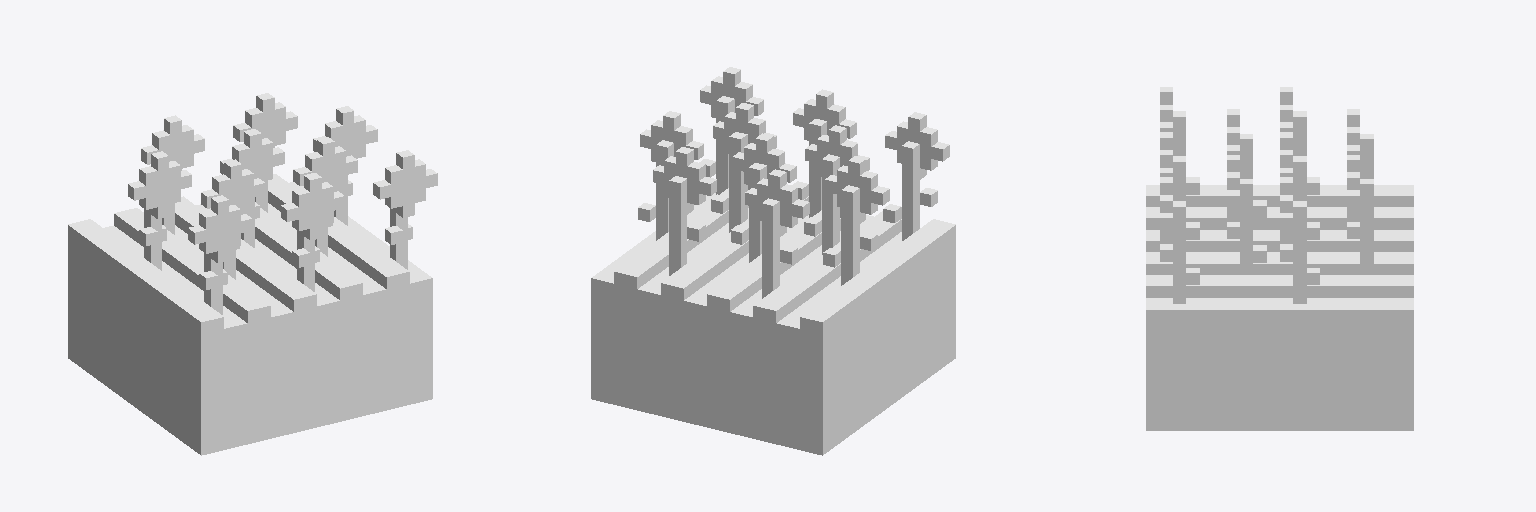
File: Sunflower_Level_3.obj
3 views of the same model, side by side, from view 1: azimuth 30°, elevation 25°; view 2: azimuth 150°, elevation 25°; view 3: azimuth 270°, elevation 25° (orthographic).
Parts seen in each view (by area): view 1: Sunflower_Level_3; view 2: Sunflower_Level_3; view 3: Sunflower_Level_3.
Part boxes in pixels (bbox=[...]): Sunflower_Level_3: bbox=[68, 93, 437, 455]; Sunflower_Level_3: bbox=[591, 67, 955, 455]; Sunflower_Level_3: bbox=[1146, 87, 1413, 430].
Size of the model in its own units: 21 by 20 by 20.